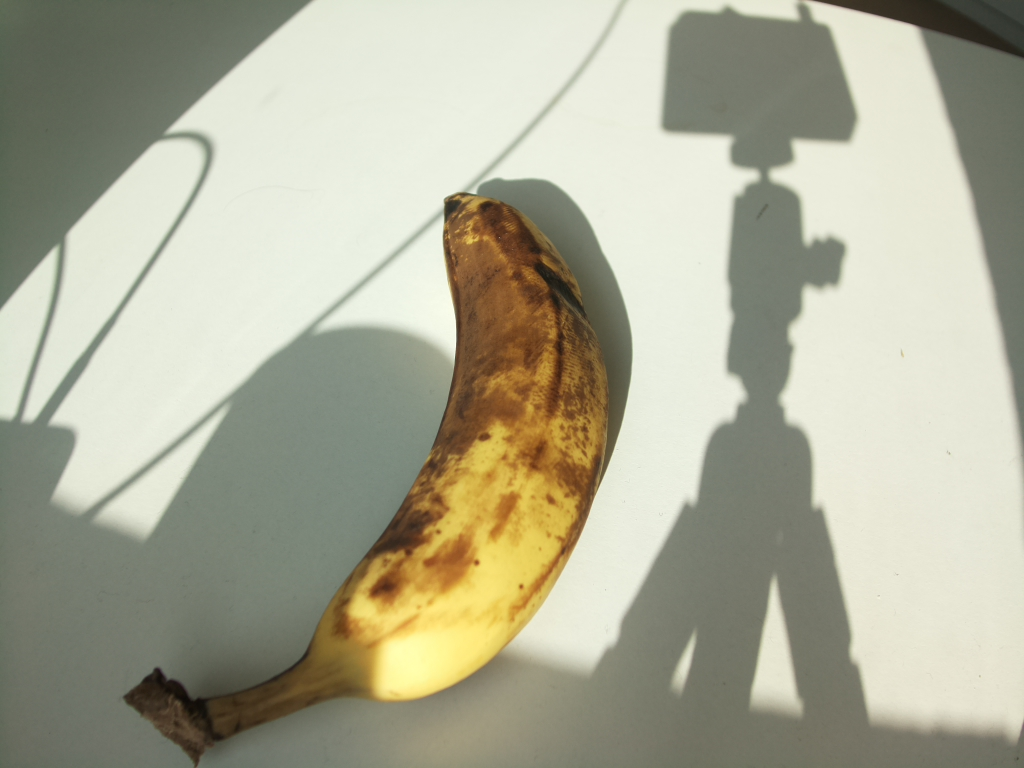banana-overripe: (122, 191, 612, 766)
